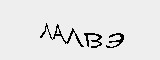А: (51, 23, 66, 43)
В: (83, 32, 103, 50)
Л: (64, 28, 83, 47), (39, 22, 53, 39)
Э: (106, 32, 126, 51)
